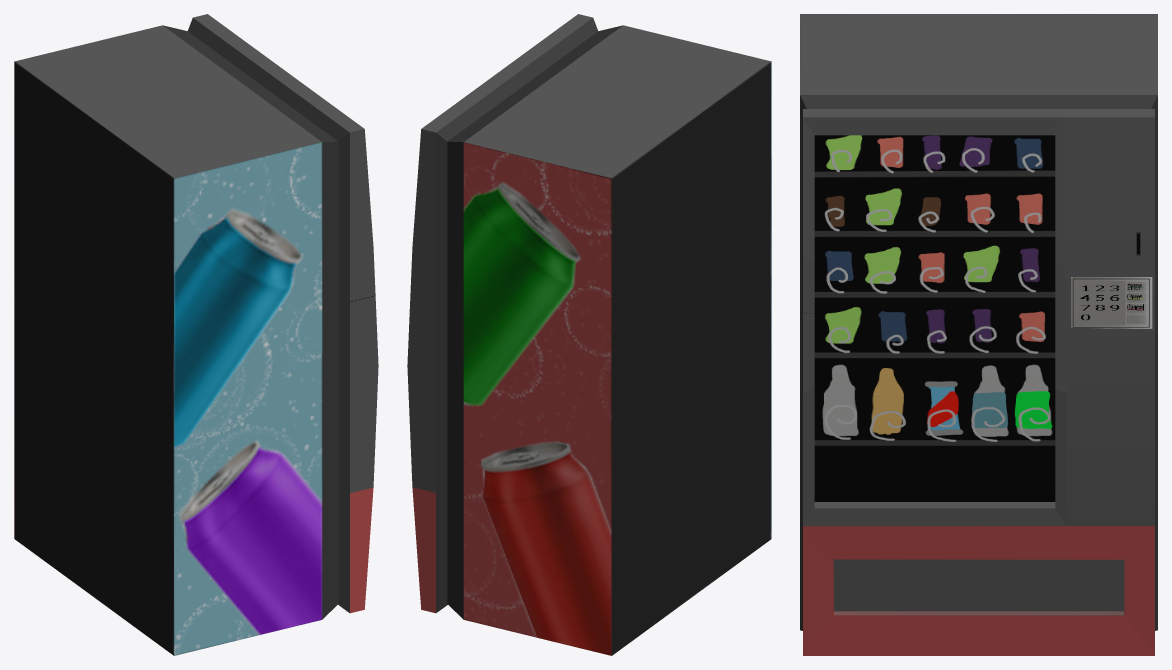
File: Vending Machine.fbx
3 renders of one model, left to right at view 1: azimuth 30°, elevation 25°; view 2: azimuth 150°, elevation 25°; view 3: azimuth 270°, elevation 25°, orthographic. The views are drawn at different scales.
Parts seen in each view (by area): view 1: Vending_Machine; view 2: Vending_Machine; view 3: Vending_Machine.
Part boxes in pixels (bbox=[...]): Vending_Machine: bbox=[14, 14, 378, 655]; Vending_Machine: bbox=[407, 14, 771, 655]; Vending_Machine: bbox=[800, 14, 1157, 655].
Size of the model in its own units: 1.41 by 3.16 by 1.9.
